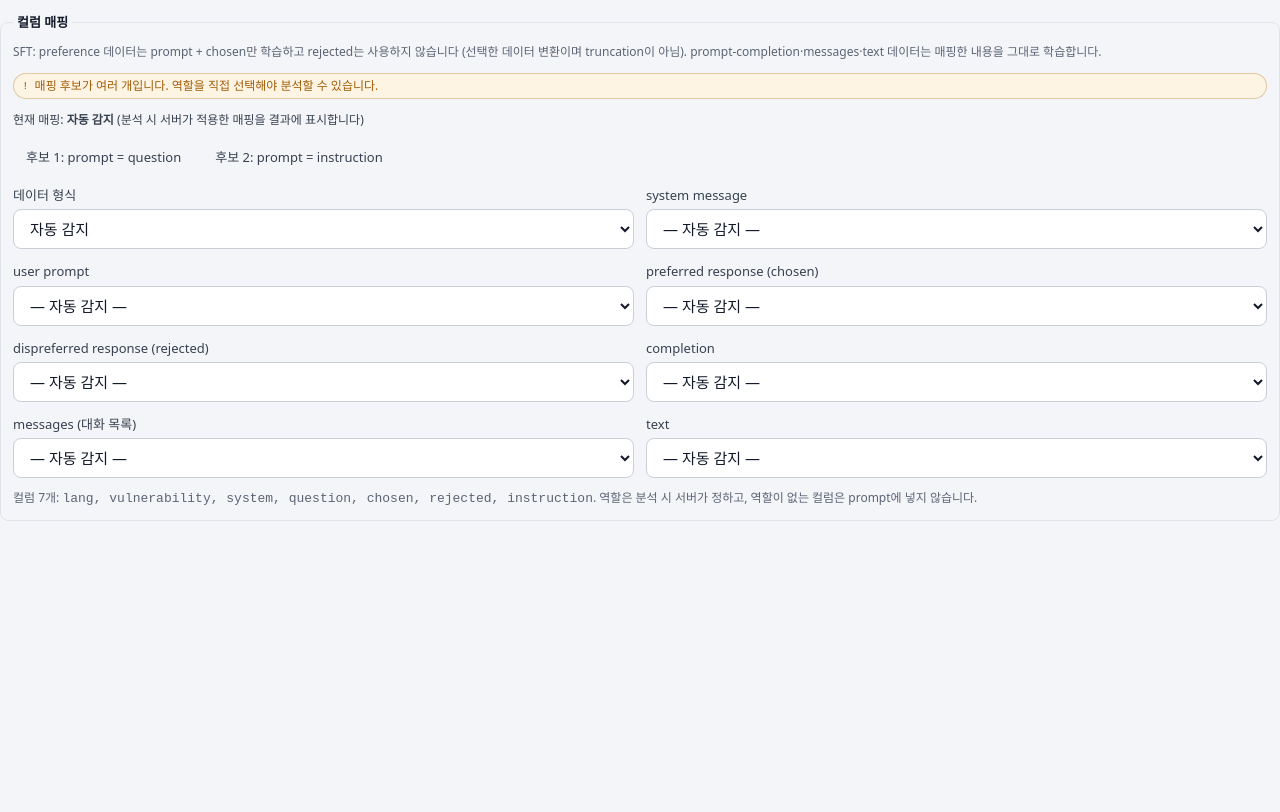
Test case: mapping editor › asks for a format and the required roles when there is no suggestion
The width and height of the screenshot is (1280, 812).
Step 1. Select "instruction" in the dropdown labelled "user prompt" → (324, 306), box [13,286,634,326]
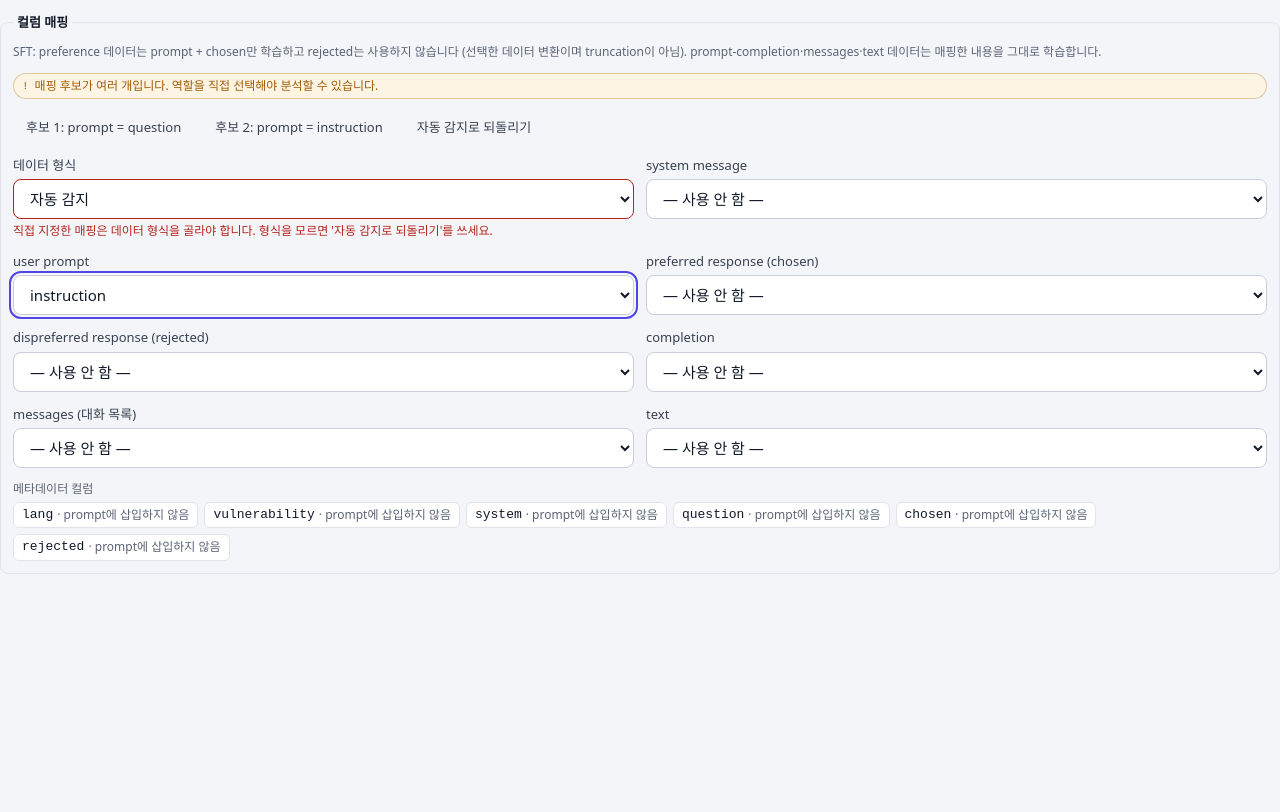
Check: the text "직접 지정한 매핑은 데이터 형식을 골라야 합니다. 형식을 모르면 '자동 감지로 되돌리기'를 쓰세요." is shown, box [13,222,493,239]
Step 2. Select "preference (prompt · chosen · rejected)" in the dropdown labelled "데이터 형식" → (324, 199), box [13,179,634,219]
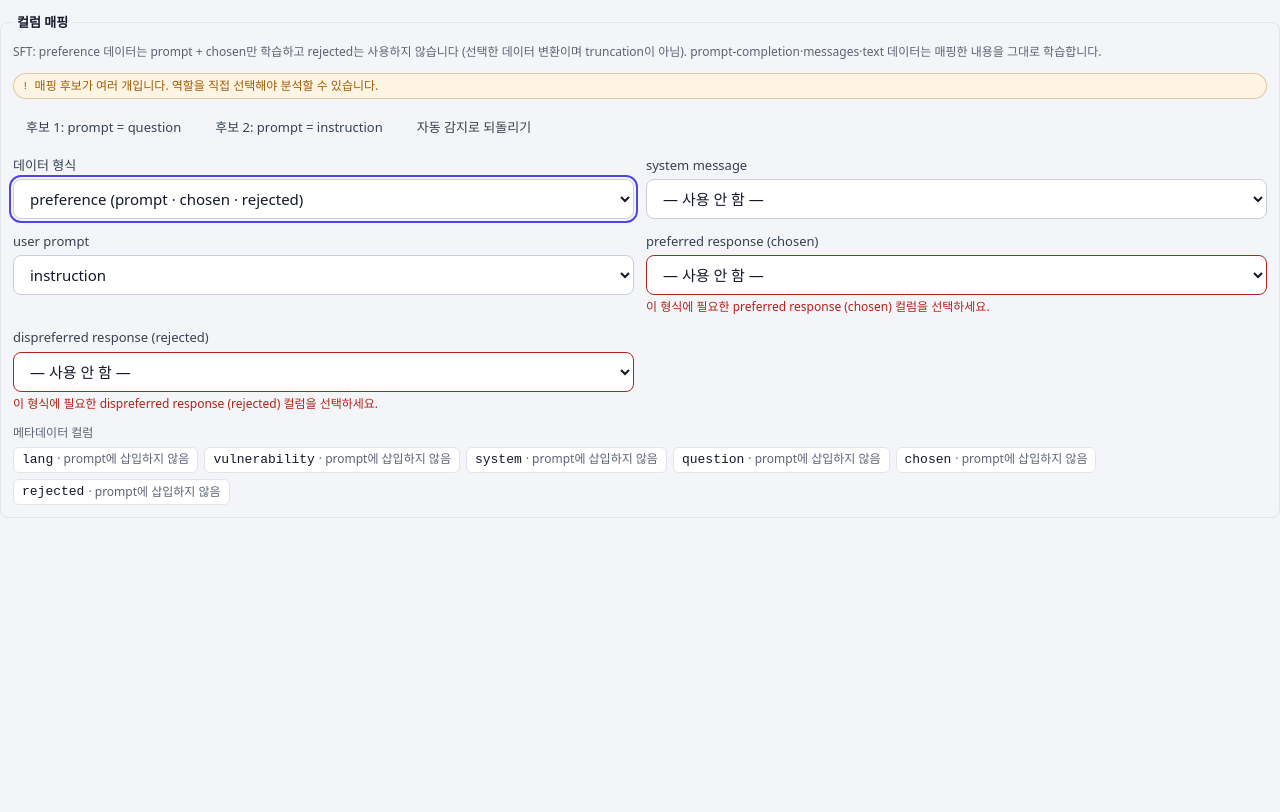
Check: the text "이 형식에 필요한 preferred response (chosen) 컬럼을 선택하세요." is shown, box [646,298,990,315]
Step 3. Select "chosen" in the dropdown labelled "preferred response (chosen)" → (956, 275), box [646,255,1267,295]
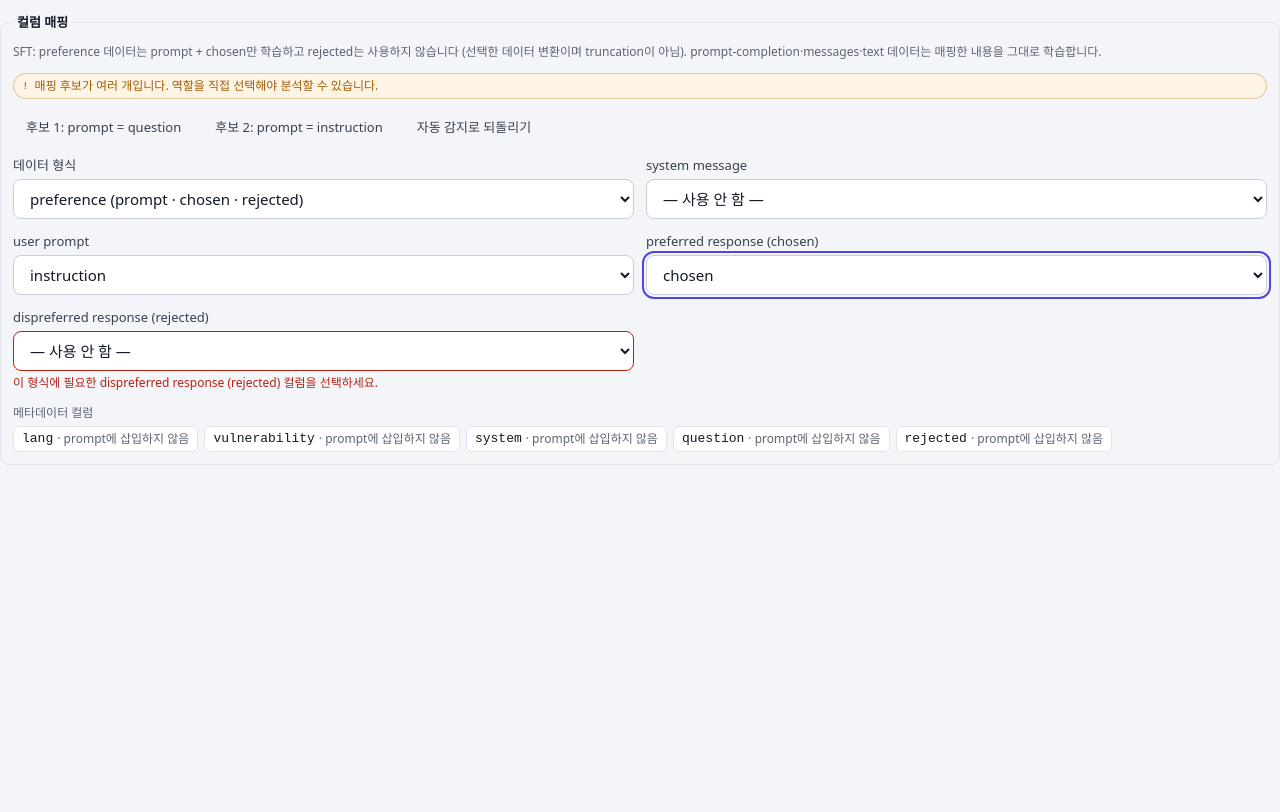
Step 4. Select "rejected" in the dropdown labelled "dispreferred response (rejected)" → (324, 351), box [13,331,634,371]
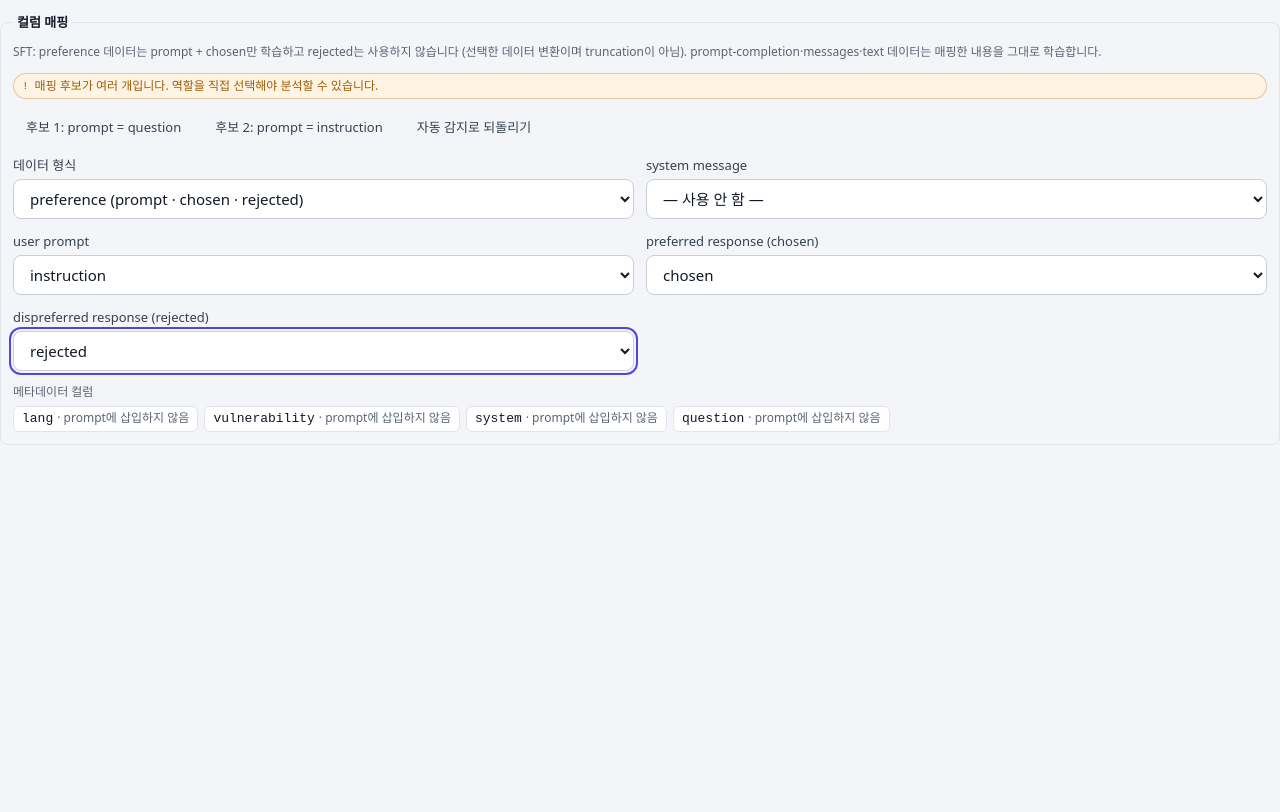
Check: the text "컬럼을 선택하세요" is gone
